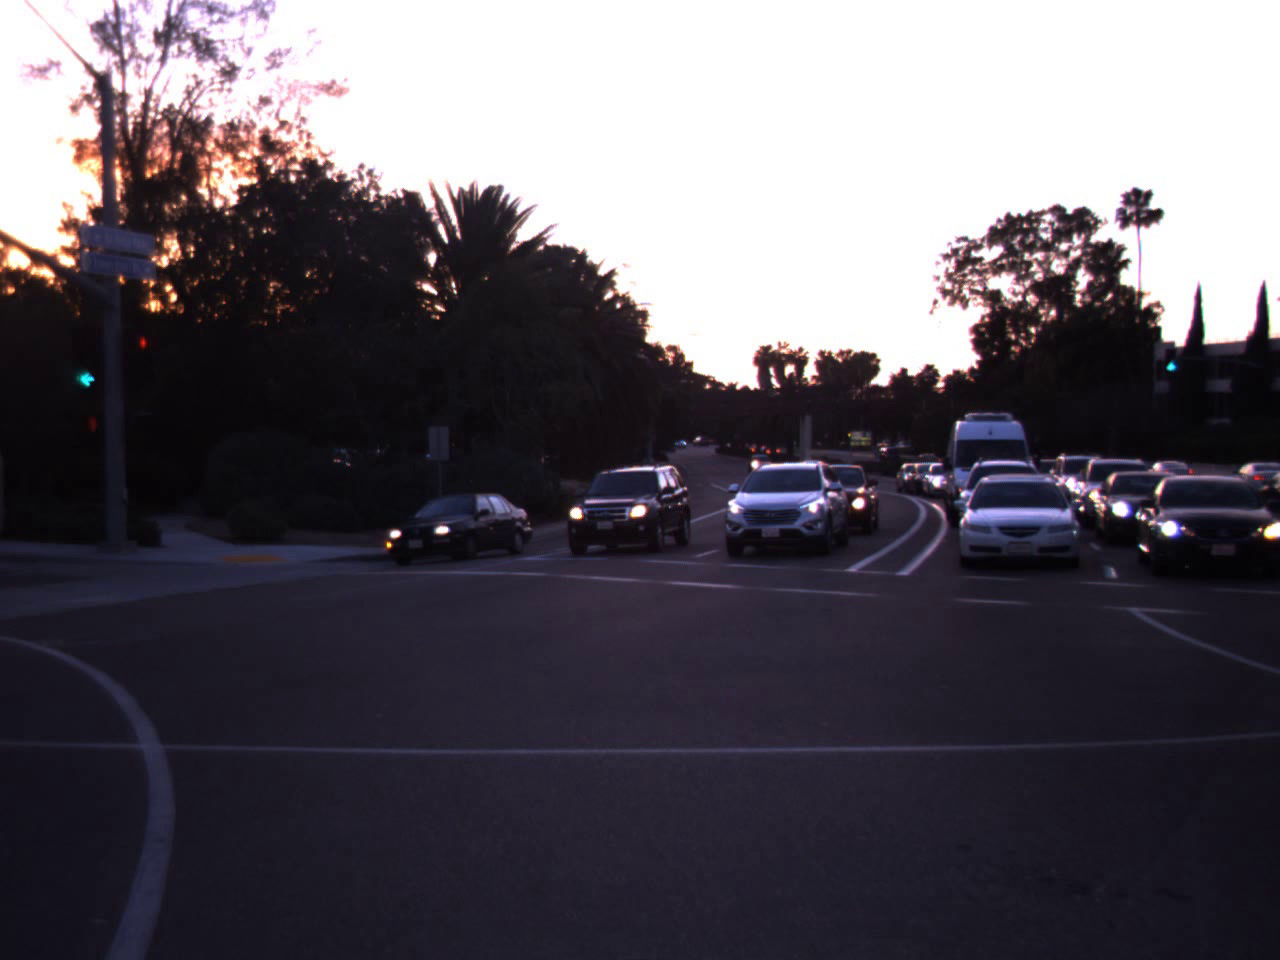go: (52, 299, 121, 399), (1162, 343, 1180, 373)
